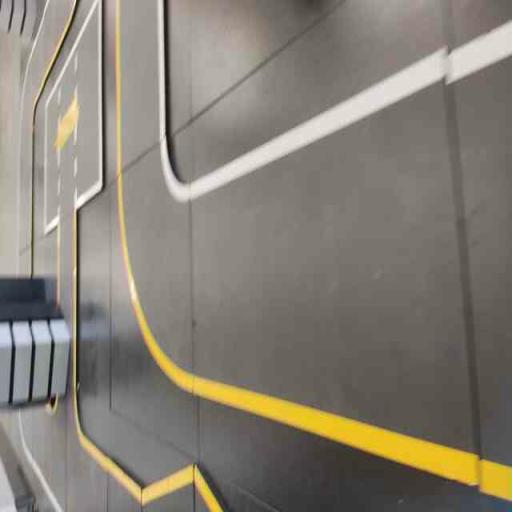straight: (188, 28, 482, 500)
